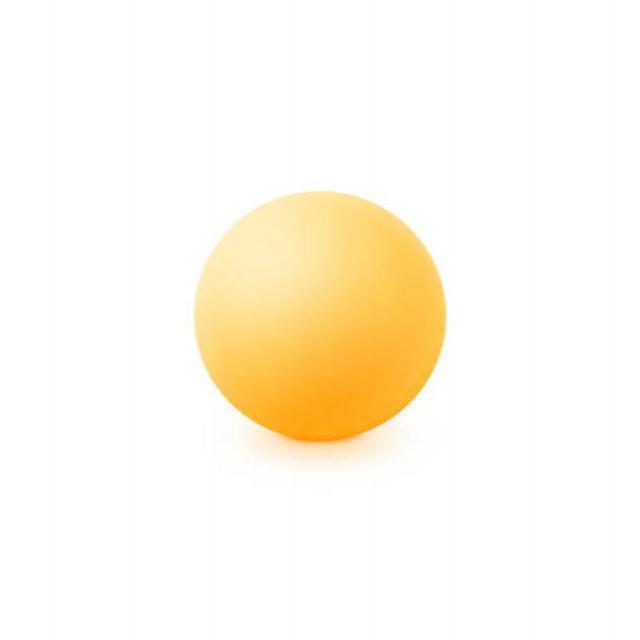oball: (193, 188, 447, 442)
